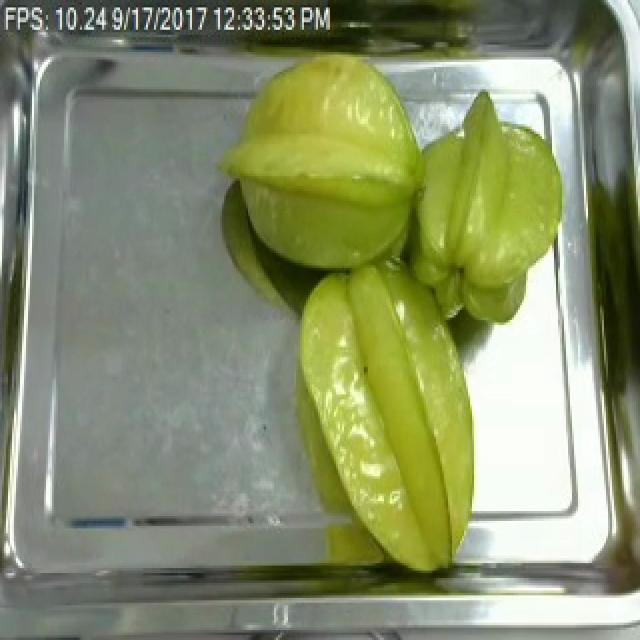fruit: (284, 248, 492, 588), (212, 42, 438, 288), (402, 82, 574, 307)
